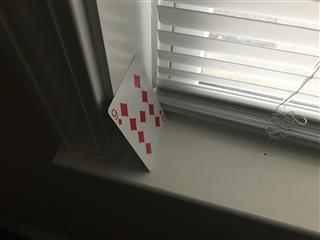NineOfDiamonds: (106, 52, 168, 171)
